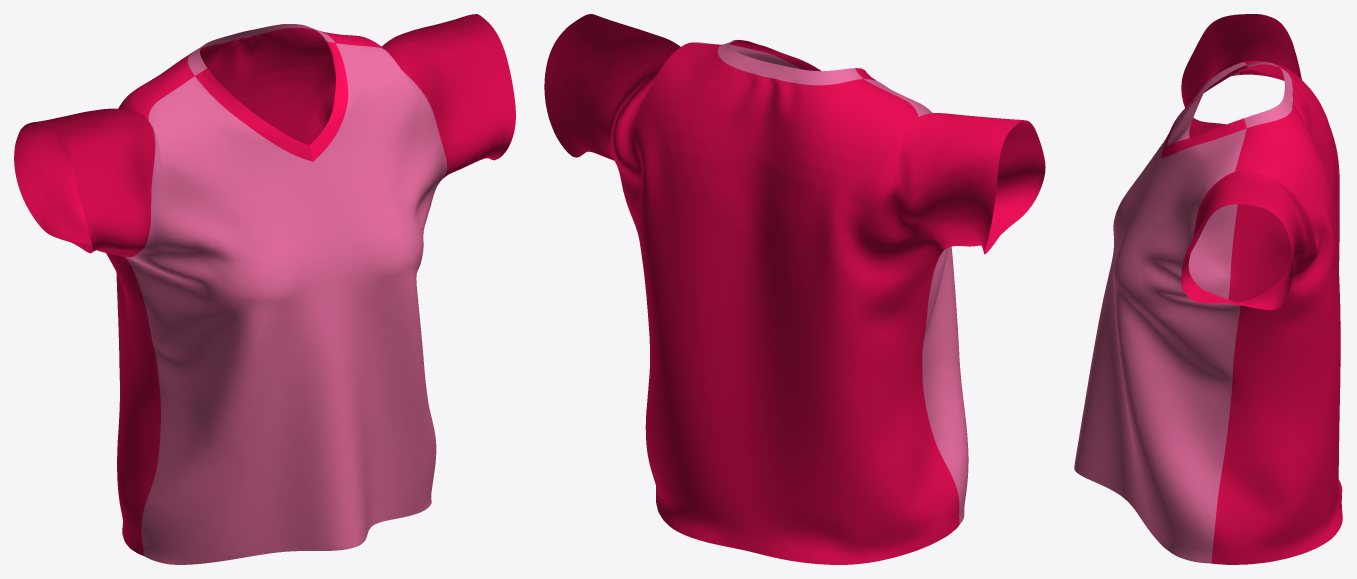
Rendered from female_pink_tshirt_M.glb.
3 views of the same model, side by side, from view 1: azimuth 30°, elevation 25°; view 2: azimuth 150°, elevation 25°; view 3: azimuth 270°, elevation 25° (orthographic). The views are drawn at different scales.
Visible parts, largest first — view 1: V_neck_T_shirt_horizontal_sleeves; view 2: V_neck_T_shirt_horizontal_sleeves; view 3: V_neck_T_shirt_horizontal_sleeves.
Part boxes in pixels (x1,y1,x2,y2): V_neck_T_shirt_horizontal_sleeves: (14,14,515,564); V_neck_T_shirt_horizontal_sleeves: (544,14,1045,564); V_neck_T_shirt_horizontal_sleeves: (1074,14,1342,564).
Bounding box in the file's own units: 0.544 × 0.5368 × 0.31.
